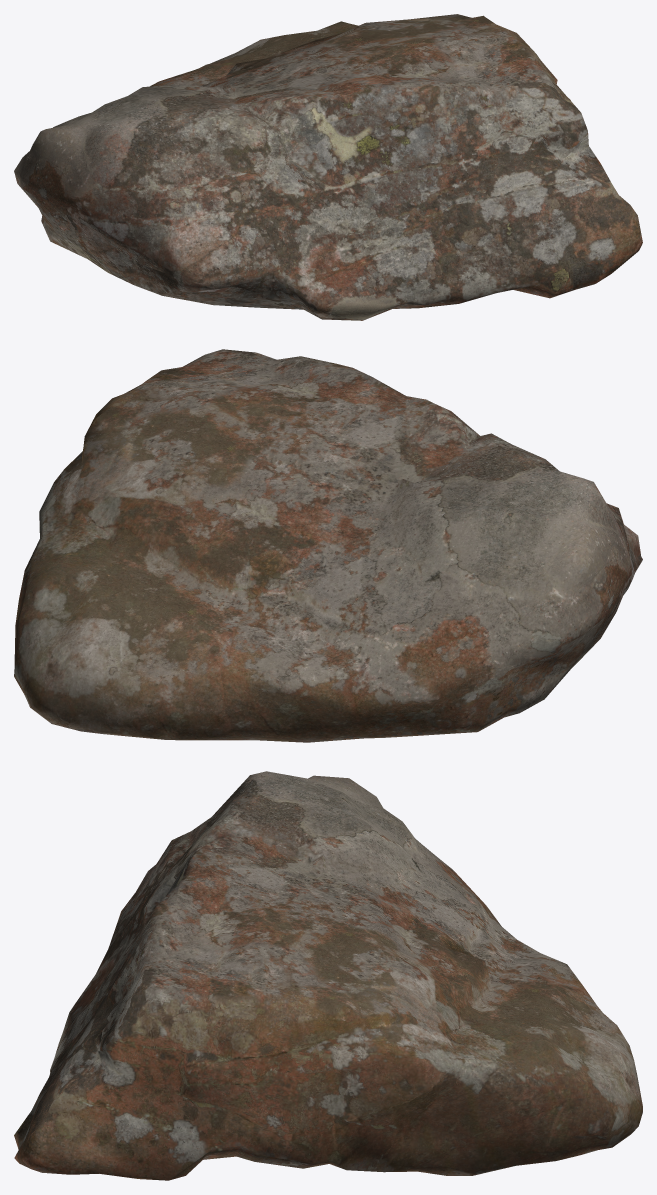
Rendered from nordic_beach_rock_vbumba2fa_mid.glb.
The picture shows the model from 3 angles, top to bottom: view 1: azimuth 30°, elevation 25°; view 2: azimuth 150°, elevation 25°; view 3: azimuth 270°, elevation 25°; orthographic projection. The views are drawn at different scales.
Parts seen in each view (by area): view 1: vbumba2fa_LOD0_TIER2_000; view 2: vbumba2fa_LOD0_TIER2_000; view 3: vbumba2fa_LOD0_TIER2_000.
Part boxes in pixels (left/top/right/bottom): vbumba2fa_LOD0_TIER2_000: left=14, top=14, right=642, bottom=320; vbumba2fa_LOD0_TIER2_000: left=14, top=349, right=642, bottom=742; vbumba2fa_LOD0_TIER2_000: left=14, top=771, right=642, bottom=1180.
Bounding box in the file's own units: 0.4681 × 0.1894 × 0.4715.
Materials: 1 (1 with a texture image).
